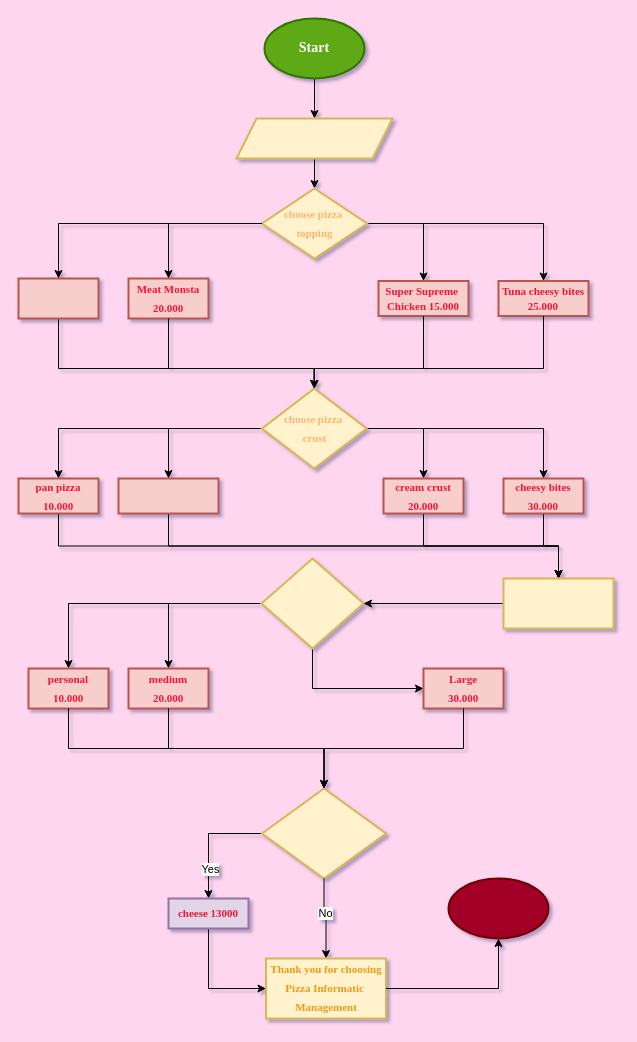
Image size: 637x1042. Some labels were removed from this diagram. Each missing label, with the centre of its shape:
"cust pizza size" belongs at (x=312, y=603).
"do you want to add cheese?" belongs at (x=323, y=833).
"Frankfurter 10.000" belongs at (x=58, y=298).
"stuffed crust sosis 25.000" belongs at (x=168, y=495).
"What pizza toppings would you like to order?" belongs at (x=314, y=138).
"What size do you want to order?" belongs at (x=558, y=603).
"Your final bill" belongs at (x=498, y=908).
